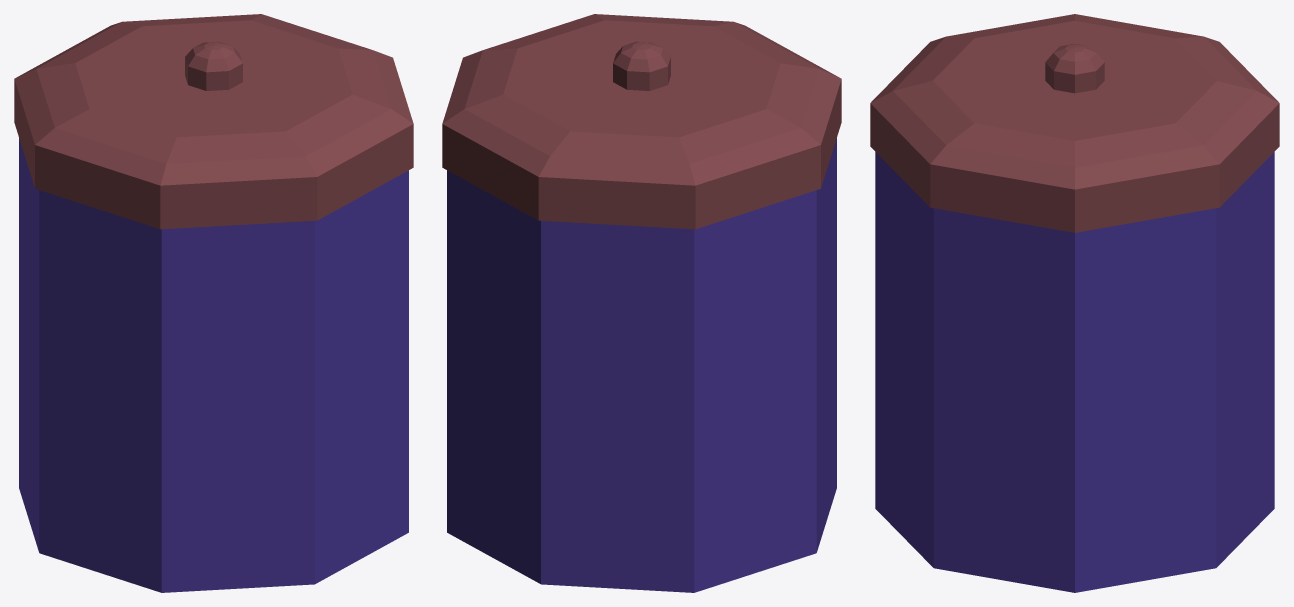
The model's file is StartingCabinJar.fbx.
3 renders of one model, left to right at view 1: azimuth 30°, elevation 25°; view 2: azimuth 150°, elevation 25°; view 3: azimuth 270°, elevation 25°, orthographic.
Parts seen in each view (by area): view 1: Jar01; view 2: Jar01; view 3: Jar01.
Part boxes in pixels (x1,y1,x2,y2): Jar01: (14,14,413,592); Jar01: (442,14,841,592); Jar01: (870,14,1279,592).
Bounding box in the file's own units: 12.08 × 14.99 × 12.08.
